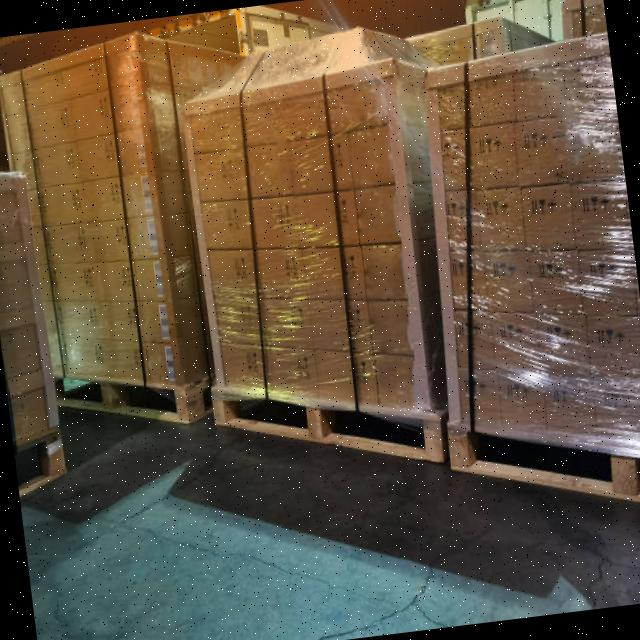Wooden-Pallets: (205, 385, 448, 478), (49, 361, 198, 423)
